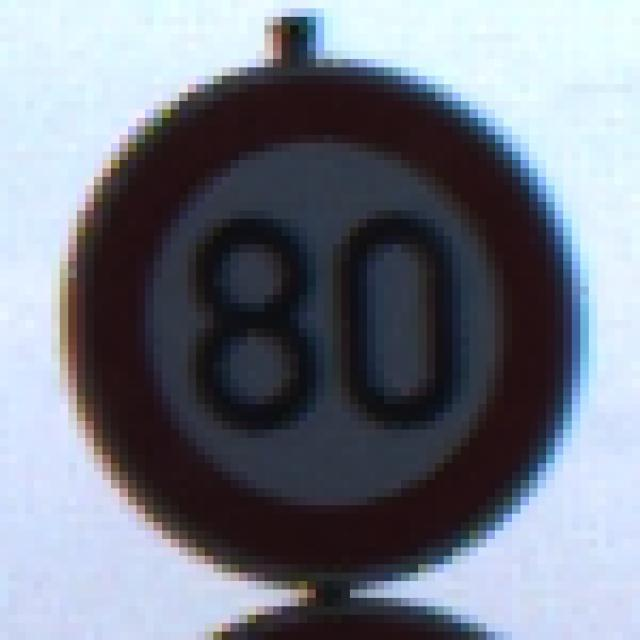Ograniczenie predkosci do 80: (74, 69, 570, 579)
